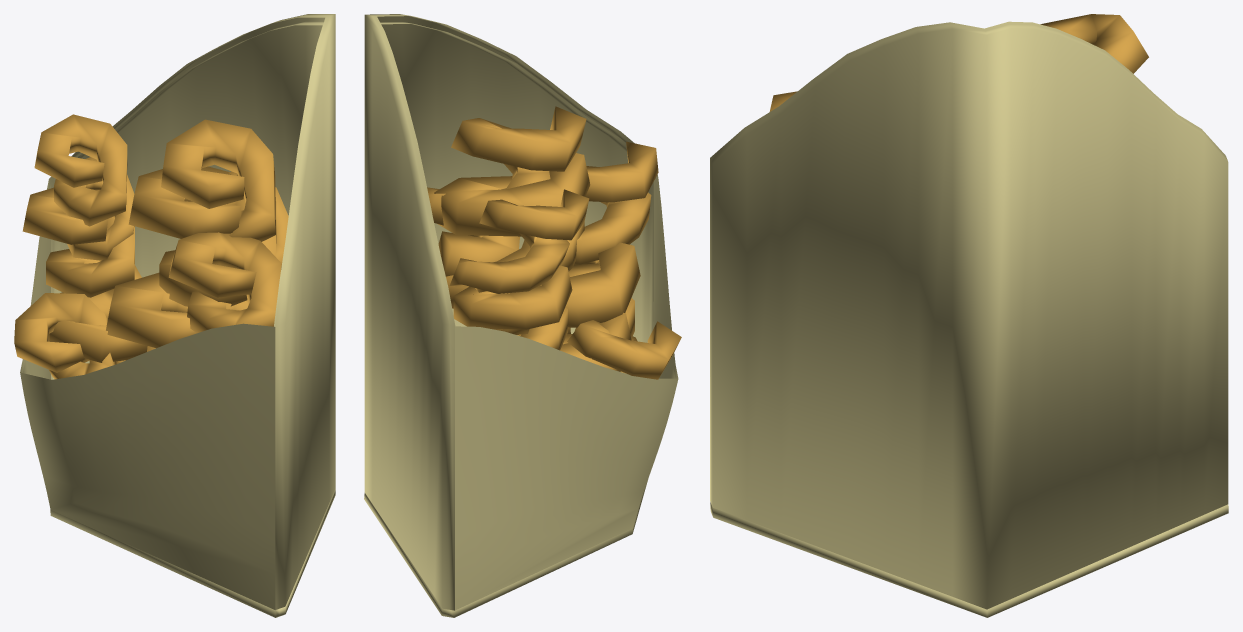
The model's file is frenchfries_curly.fbx.
The picture shows the model from 3 angles, left to right: view 1: azimuth 30°, elevation 25°; view 2: azimuth 150°, elevation 25°; view 3: azimuth 270°, elevation 25°; orthographic projection. The views are drawn at different scales.
Parts seen in each view (by area): view 1: container, interior, fry.005, fry.006, fry.004, fry.001, fry.003, fry.007, fry, fry.002; view 2: container, interior, fry.005, fry.006, fry.003, fry.004, fry.001, fry, fry.007, fry.002; view 3: container, fry.006.
Part boxes in pixels (left/top/right/bottom): container: left=20, top=14, right=335, bottom=617; interior: left=23, top=21, right=323, bottom=379; fry.005: left=161, top=119, right=288, bottom=269; fry.006: left=34, top=114, right=134, bottom=260; fry.004: left=168, top=232, right=281, bottom=333; fry.001: left=22, top=187, right=141, bottom=297; fry.003: left=128, top=166, right=276, bottom=306; fry.007: left=14, top=293, right=125, bottom=379; fry: left=106, top=272, right=196, bottom=348; fry.002: left=49, top=288, right=155, bottom=362; container: left=364, top=14, right=678, bottom=617; interior: left=380, top=21, right=675, bottom=378; fry.005: left=427, top=106, right=586, bottom=276; fry.006: left=449, top=189, right=589, bottom=334; fry.003: left=434, top=153, right=590, bottom=335; fry.004: left=568, top=141, right=658, bottom=276; fry.001: left=453, top=265, right=572, bottom=350; fry: left=565, top=242, right=640, bottom=335; fry.007: left=567, top=320, right=681, bottom=379; fry.002: left=519, top=312, right=631, bottom=371; container: left=710, top=21, right=1228, bottom=617; fry.006: left=1040, top=14, right=1148, bottom=73.
Bounding box in the file's own units: 0.3417 × 0.5004 × 0.4037.
